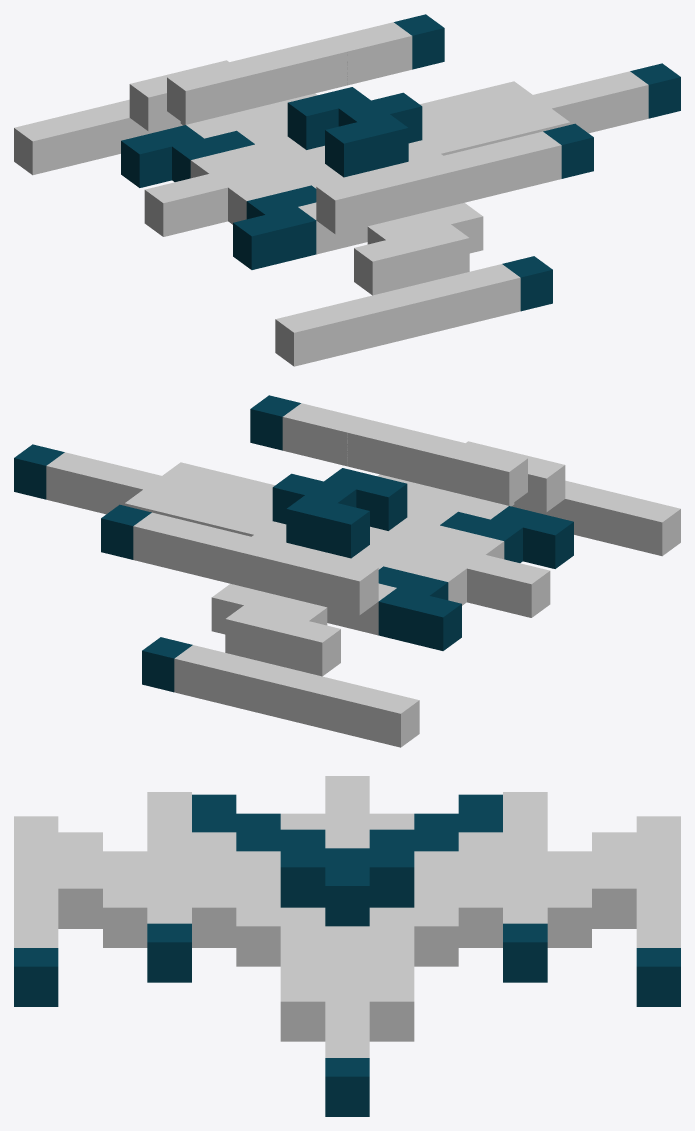
The model's file is Player.fbx.
3 views of the same model, one above another, from view 1: azimuth 30°, elevation 25°; view 2: azimuth 150°, elevation 25°; view 3: azimuth 270°, elevation 25° (orthographic). The views are drawn at different scales.
Visible parts, largest first — view 1: Box051, Box119, Box340, Box015, Box096, Box071, Box048, Box049, Box094, Box121, Box093, Box114 (+64 smaller); view 2: Box096, Box121, Box340, Box071, Box051, Box015, Box093, Box094, Box049, Box119, Box048, Box114 (+64 smaller); view 3: Box118, Box120, Box039, Box084, Box007, Box020, Box064, Box076, Box123, Box011, Box022, Box067 (+86 smaller).
Part boxes in pixels (left/top/right/bottom): Box051: left=275, top=311, right=326, bottom=366; Box119: left=325, top=122, right=376, bottom=177; Box340: left=144, top=182, right=195, bottom=236; Box015: left=316, top=179, right=367, bottom=234; Box096: left=14, top=120, right=64, bottom=175; Box071: left=167, top=69, right=217, bottom=124; Box048: left=354, top=240, right=404, bottom=295; Box049: left=233, top=215, right=283, bottom=269; Box094: left=121, top=133, right=171, bottom=187; Box121: left=287, top=95, right=338, bottom=149; Box093: left=129, top=76, right=180, bottom=131; Box114: left=598, top=71, right=648, bottom=126; Box096: left=368, top=692, right=419, bottom=747; Box121: left=318, top=503, right=369, bottom=558; Box340: left=499, top=563, right=550, bottom=617; Box071: left=327, top=560, right=378, bottom=615; Box051: left=630, top=501, right=680, bottom=556; Box015: left=477, top=450, right=527, bottom=505; Box093: left=290, top=621, right=340, bottom=676; Box094: left=411, top=596, right=461, bottom=650; Box049: left=523, top=514, right=573, bottom=568; Box119: left=356, top=476, right=407, bottom=530; Box048: left=514, top=457, right=565, bottom=512; Box114: left=46, top=452, right=96, bottom=507; Box118: left=280, top=848, right=325, bottom=907; Box120: left=369, top=848, right=414, bottom=907; Box039: left=280, top=982, right=325, bottom=1041; Box084: left=369, top=982, right=414, bottom=1041; Box007: left=236, top=907, right=280, bottom=966; Box020: left=147, top=923, right=191, bottom=982; Box064: left=414, top=907, right=458, bottom=966; Box076: left=503, top=923, right=547, bottom=982; Box123: left=325, top=867, right=369, bottom=926; Box011: left=192, top=888, right=236, bottom=947; Box022: left=103, top=888, right=147, bottom=947; Box067: left=458, top=888, right=502, bottom=947.
Size of the model in its own units: 406 by 76.2 by 381.
